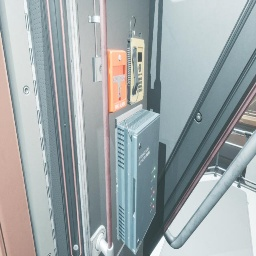EmergencyPhone ,: (127, 16, 144, 105)
FireAlarm ,: (107, 49, 127, 113)
